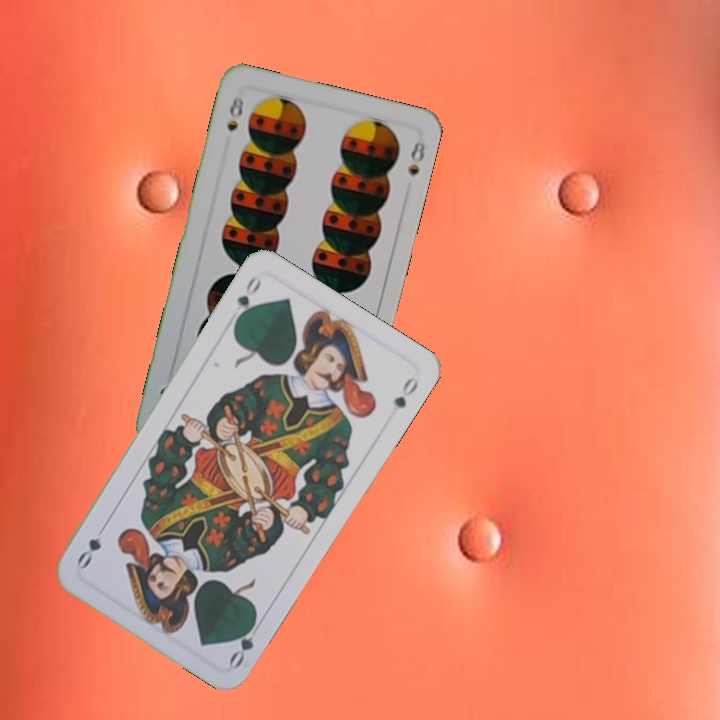GO: (225, 613, 265, 671), (230, 272, 264, 327)
S8: (222, 92, 247, 134)
